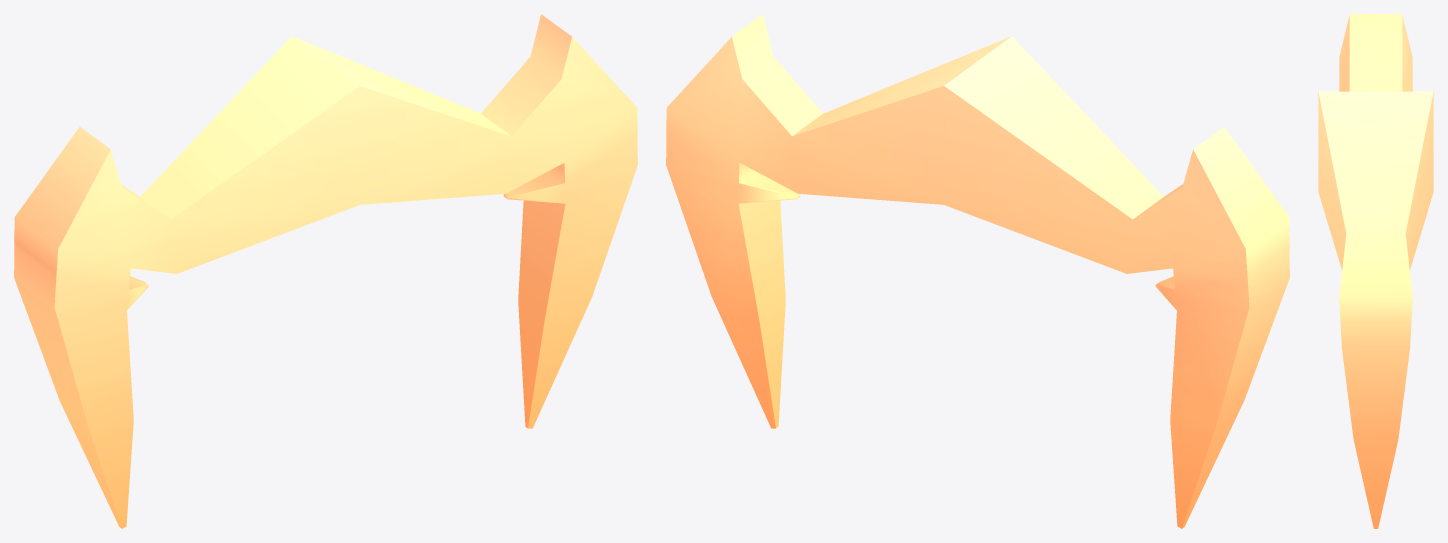
The model's file is wood_guard_073_004.glb.
The picture shows the model from 3 angles, left to right: view 1: azimuth 30°, elevation 25°; view 2: azimuth 150°, elevation 25°; view 3: azimuth 270°, elevation 25°; orthographic projection. The views are drawn at different scales.
Visible parts, largest first — view 1: wood_guard_073.004; view 2: wood_guard_073.004; view 3: wood_guard_073.004.
Part boxes in pixels (left/top/right/bottom): wood_guard_073.004: left=14, top=14, right=637, bottom=528; wood_guard_073.004: left=666, top=14, right=1289, bottom=528; wood_guard_073.004: left=1318, top=14, right=1433, bottom=528.
Bounding box in the file's own units: 6.32 × 4.31 × 1.28.
1 material, 1 textured.
